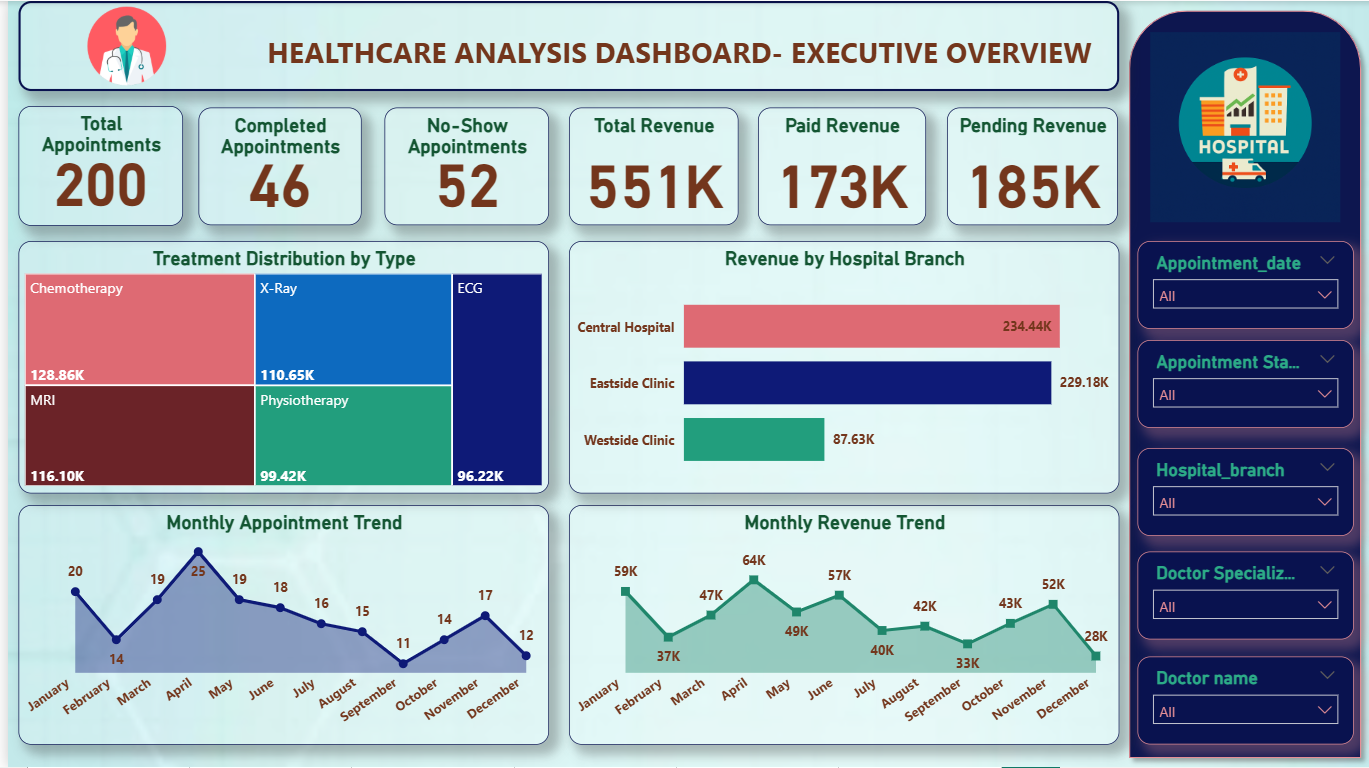

Layout of this report page (visuals, bound fields, positions):
{"tool":"powerbi","page":{"name":"Dashboard 1","canvas":[1280,720],"ordinal":0},"visuals":[{"type":"shape","box":[1044.1,0,236,720.5],"z":0},{"type":"textbox","box":[9.4,0,1034.7,84.4],"z":1000},{"type":"image","box":[0,0,223.5,84.4],"z":2000},{"type":"image","box":[1061.3,23.4,203.2,189.1],"z":3000},{"type":"card","title":"Total Appointments","fields":{"Values":["CountNonNull(appointments.appointment_id)"]},"box":[9.4,98.5,154.7,112.5],"z":4000},{"type":"card","title":"Completed Appointments","fields":{"Values":["CountNonNull(appointments.appointment_id)"]},"box":[179.7,100,153.2,111],"z":5000},{"type":"card","title":"No-Show Appointments","fields":{"Values":["CountNonNull(appointments.appointment_id)"]},"box":[353.2,100,154.7,111],"z":6000},{"type":"card","title":"Total Revenue","fields":{"Values":["Sum(billing.amount)"]},"box":[526.7,100,159.4,111],"z":7000},{"type":"card","title":"Paid Revenue","fields":{"Values":["Sum(billing.amount)"]},"box":[704.9,100,157.9,111],"z":8000},{"type":"card","title":"Pending Revenue","fields":{"Values":["Sum(billing.amount)"]},"box":[883.1,100,161,111],"z":9000},{"type":"slicer","fields":{"Values":["appointments.appointment_date"]},"box":[1061.3,225.1,203.2,82.8],"z":10000},{"type":"slicer","fields":{"Values":["appointments.status"]},"box":[1061.3,318.8,203.2,82.8],"z":11000},{"type":"slicer","fields":{"Values":["doctors.hospital_branch"]},"box":[1061.3,420.4,203.2,82.8],"z":12000},{"type":"slicer","fields":{"Values":["doctors.specialization"]},"box":[1061.3,517.3,203.2,82.8],"z":13000},{"type":"slicer","fields":{"Values":["doctors.Full name"]},"box":[1061.3,615.8,203.2,82.8],"z":14000},{"type":"treemap","title":"Treatment Distribution by Type","fields":{"Group":["treatments.treatment_type"],"Values":["Sum(treatments.cost)"]},"box":[9.4,225.1,498.6,237.6],"z":15000},{"type":"lineChart","title":"Monthly Appointment Trend","fields":{"Category":["appointments.appointment_date.Variation.Date Hierarchy.Month"],"Y":["CountNonNull(appointments.appointment_id)"]},"box":[9.4,473.6,498.6,225.1],"z":16000},{"type":"lineChart","title":"Monthly Revenue Trend","fields":{"Category":["billing.bill_date.Variation.Date Hierarchy.Month"],"Y":["Sum(billing.amount)"]},"box":[526.7,473.6,517.3,225.1],"z":17000},{"type":"barChart","title":"Revenue by Hospital Branch","fields":{"Category":["doctors.hospital_branch"],"Y":["Sum(billing.amount)"]},"box":[526.7,225.1,517.3,237.6],"z":18000}]}

Visuals, with their boxes in screenshot pixels (x1, y1, x2, y2), scaled from the page's 1280x720 canvas onto the 1369x768 screenshot:
shape: region(1117, 0, 1368, 767)
textbox: region(10, 0, 1117, 90)
image: region(0, 0, 239, 90)
image: region(1135, 25, 1352, 227)
"Total Appointments" card: region(10, 105, 176, 225)
"Completed Appointments" card: region(192, 107, 356, 225)
"No-Show Appointments" card: region(378, 107, 543, 225)
"Total Revenue" card: region(563, 107, 734, 225)
"Paid Revenue" card: region(754, 107, 923, 225)
"Pending Revenue" card: region(945, 107, 1117, 225)
slicer - appointments.appointment_date: region(1135, 240, 1352, 328)
slicer - appointments.status: region(1135, 340, 1352, 428)
slicer - doctors.hospital_branch: region(1135, 448, 1352, 537)
slicer - doctors.specialization: region(1135, 552, 1352, 640)
slicer - doctors.Full name: region(1135, 657, 1352, 745)
"Treatment Distribution by Type" treemap: region(10, 240, 543, 494)
"Monthly Appointment Trend" lineChart: region(10, 505, 543, 745)
"Monthly Revenue Trend" lineChart: region(563, 505, 1117, 745)
"Revenue by Hospital Branch" barChart: region(563, 240, 1117, 494)
